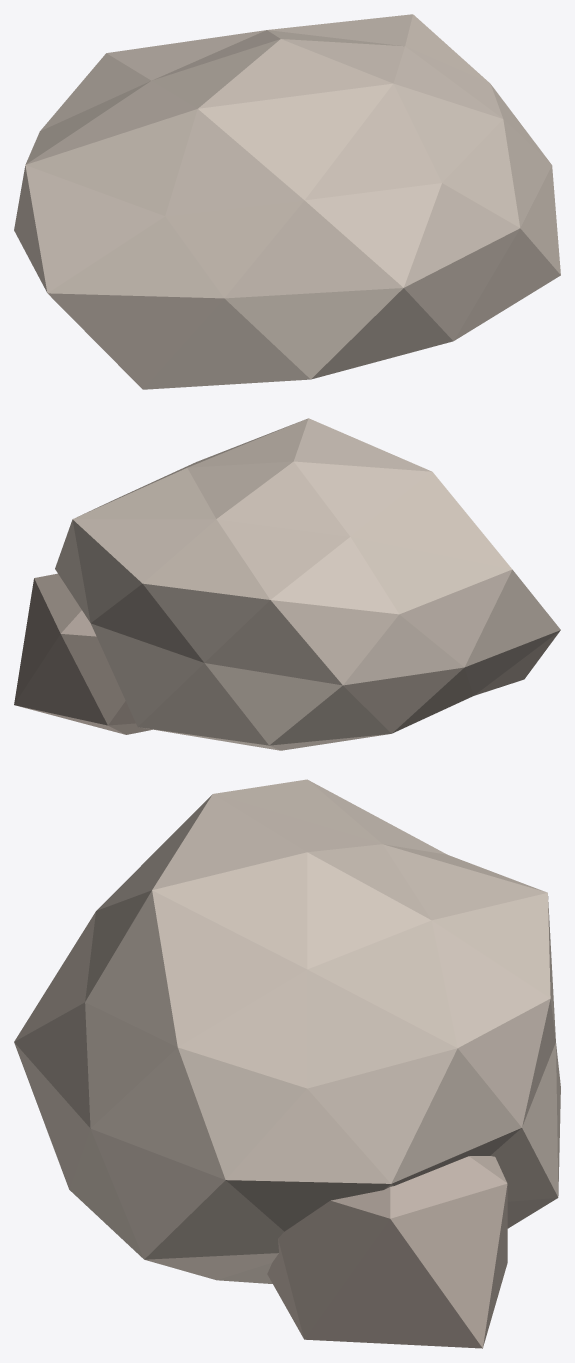
File: rock_big.glb
3 views of the same model, one above another, from view 1: azimuth 30°, elevation 25°; view 2: azimuth 150°, elevation 25°; view 3: azimuth 270°, elevation 25° (orthographic). The views are drawn at different scales.
Visible parts, largest first — view 1: rock_big; view 2: rock_big; view 3: rock_big.
Boxes of the visible parts, x1=… form: rock_big: x1=14, y1=14, x2=560, y2=389; rock_big: x1=14, y1=418, x2=560, y2=750; rock_big: x1=14, y1=779, x2=560, y2=1348.
Bounding box in the file's own units: 3.77 × 2.22 × 2.77.
